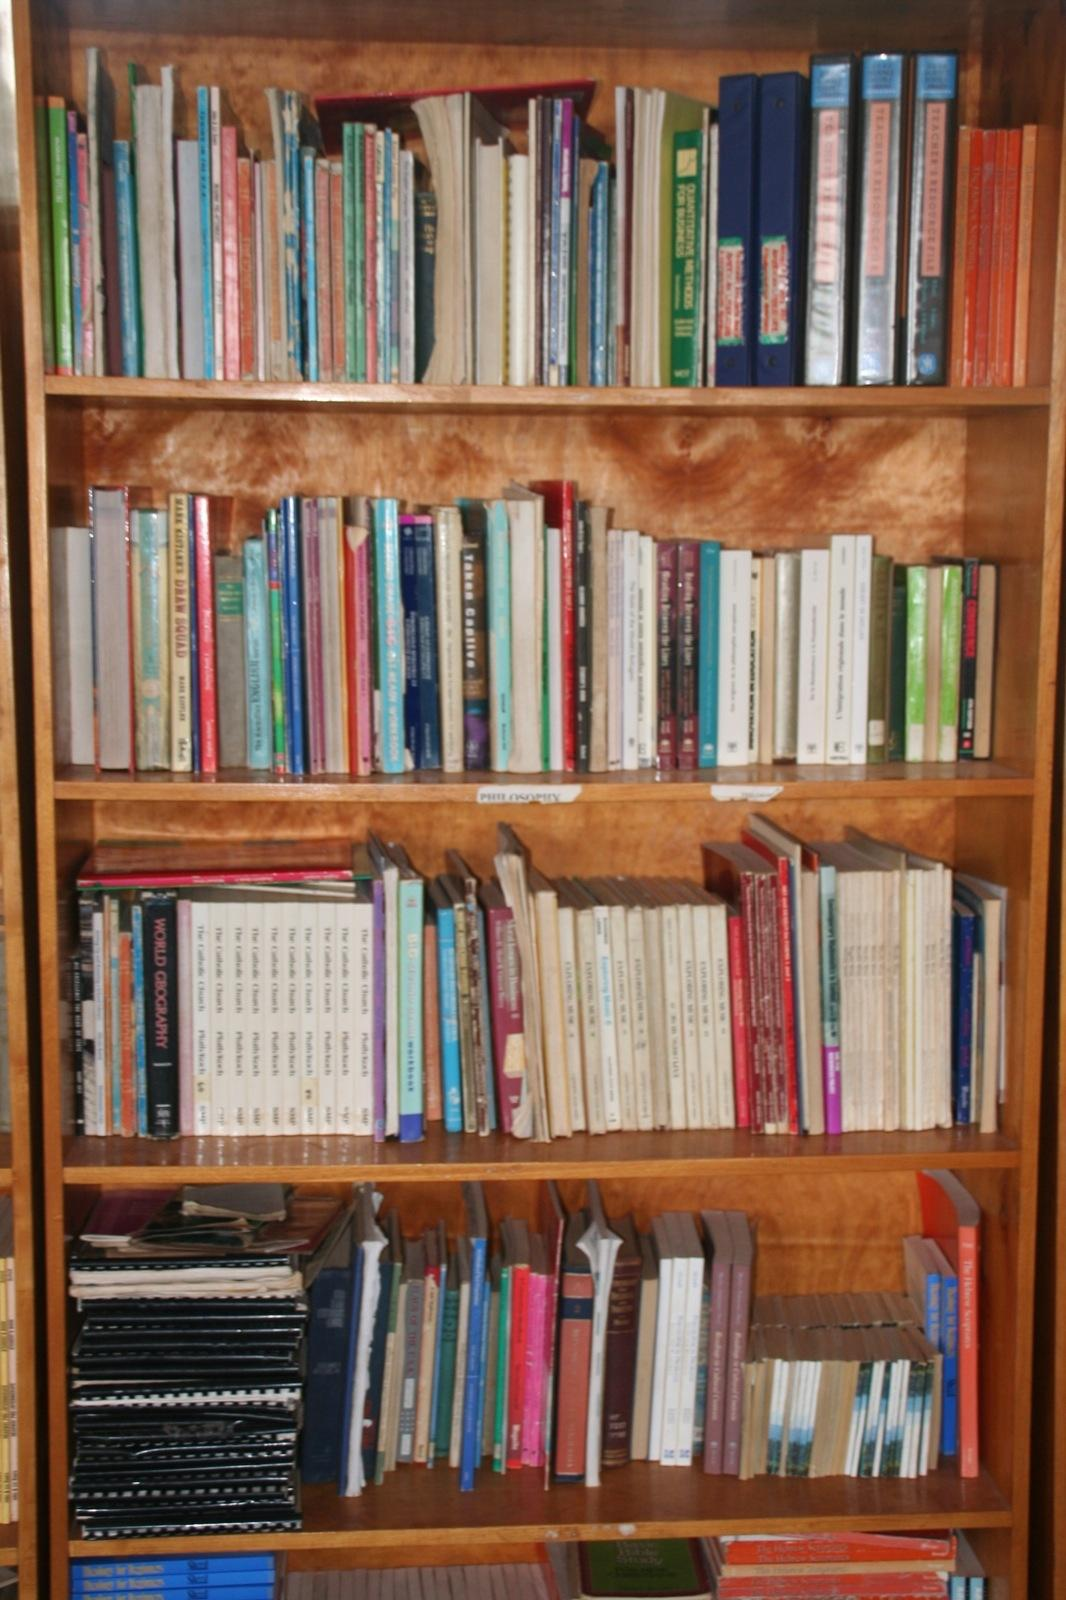Rak: (10, 1, 1065, 1599)
